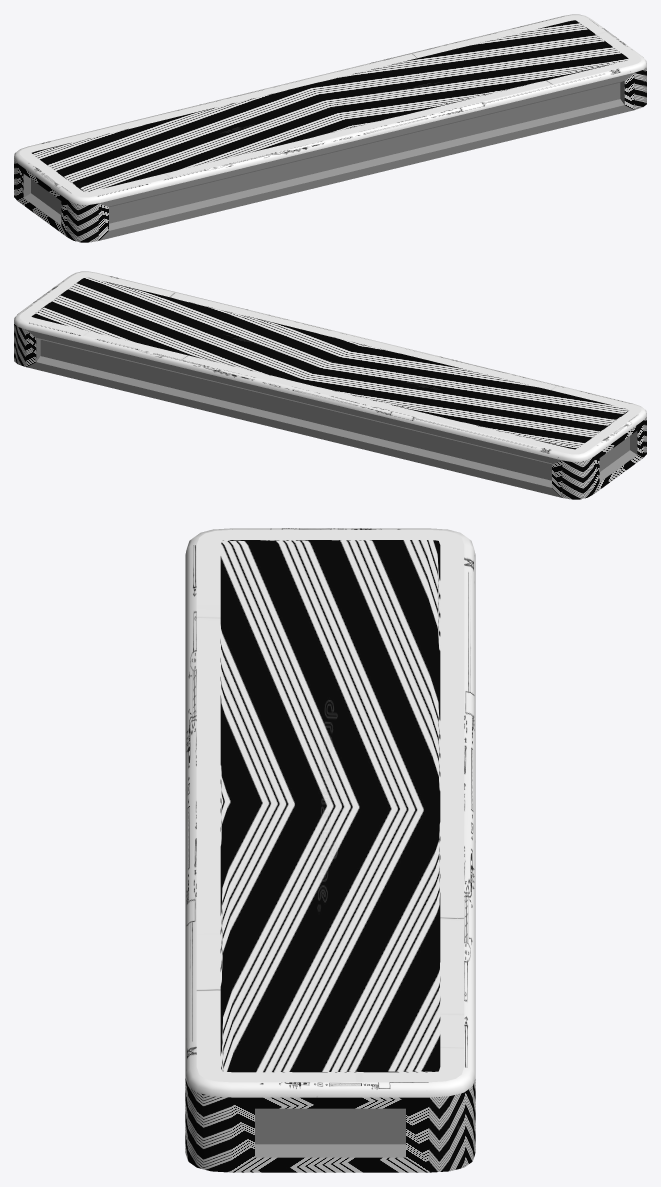
The model's file is Platform_1_v3.FBX.
The picture shows the model from 3 angles, top to bottom: view 1: azimuth 30°, elevation 25°; view 2: azimuth 150°, elevation 25°; view 3: azimuth 270°, elevation 25°; orthographic projection. The views are drawn at different scales.
Parts seen in each view (by area): view 1: Box001; view 2: Box001; view 3: Box001.
Boxes of the visible parts, x1,y1,x2,y2 form: Box001: (14, 14, 646, 242); Box001: (14, 271, 646, 499); Box001: (185, 528, 475, 1172).
Bounding box in the file's own units: 15.75 × 1.12 × 3.44.
